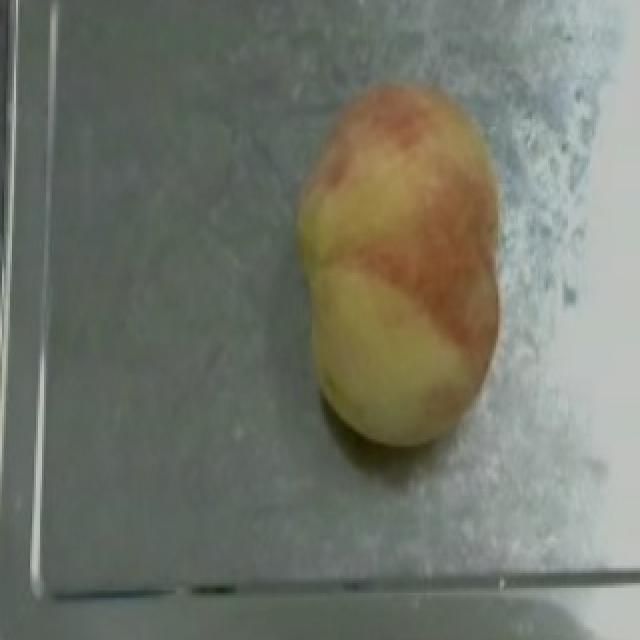Fruit: (280, 59, 526, 345)
